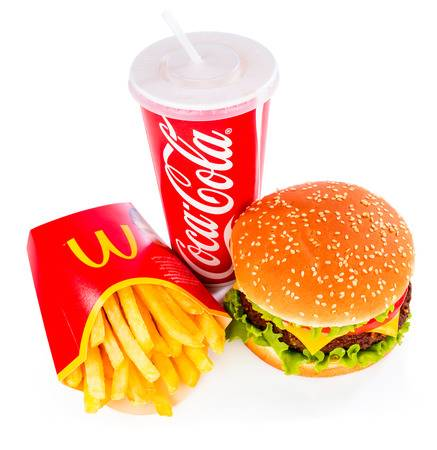mcdonalds: (69, 224, 131, 264)
